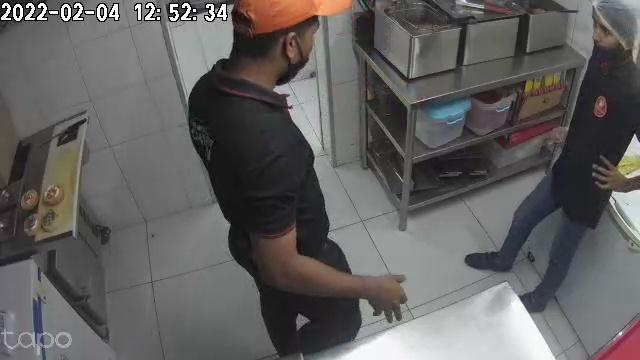no_gloves: (353, 270, 412, 323), (588, 155, 639, 186)
